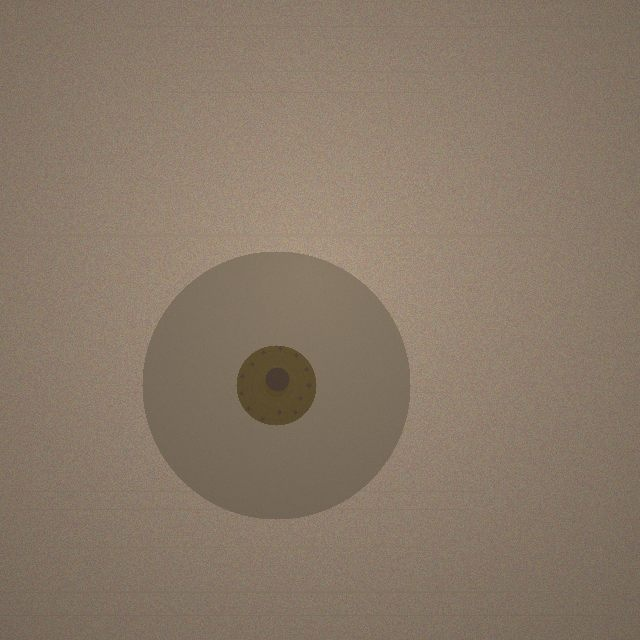cold_weld: (142, 251, 410, 519)
